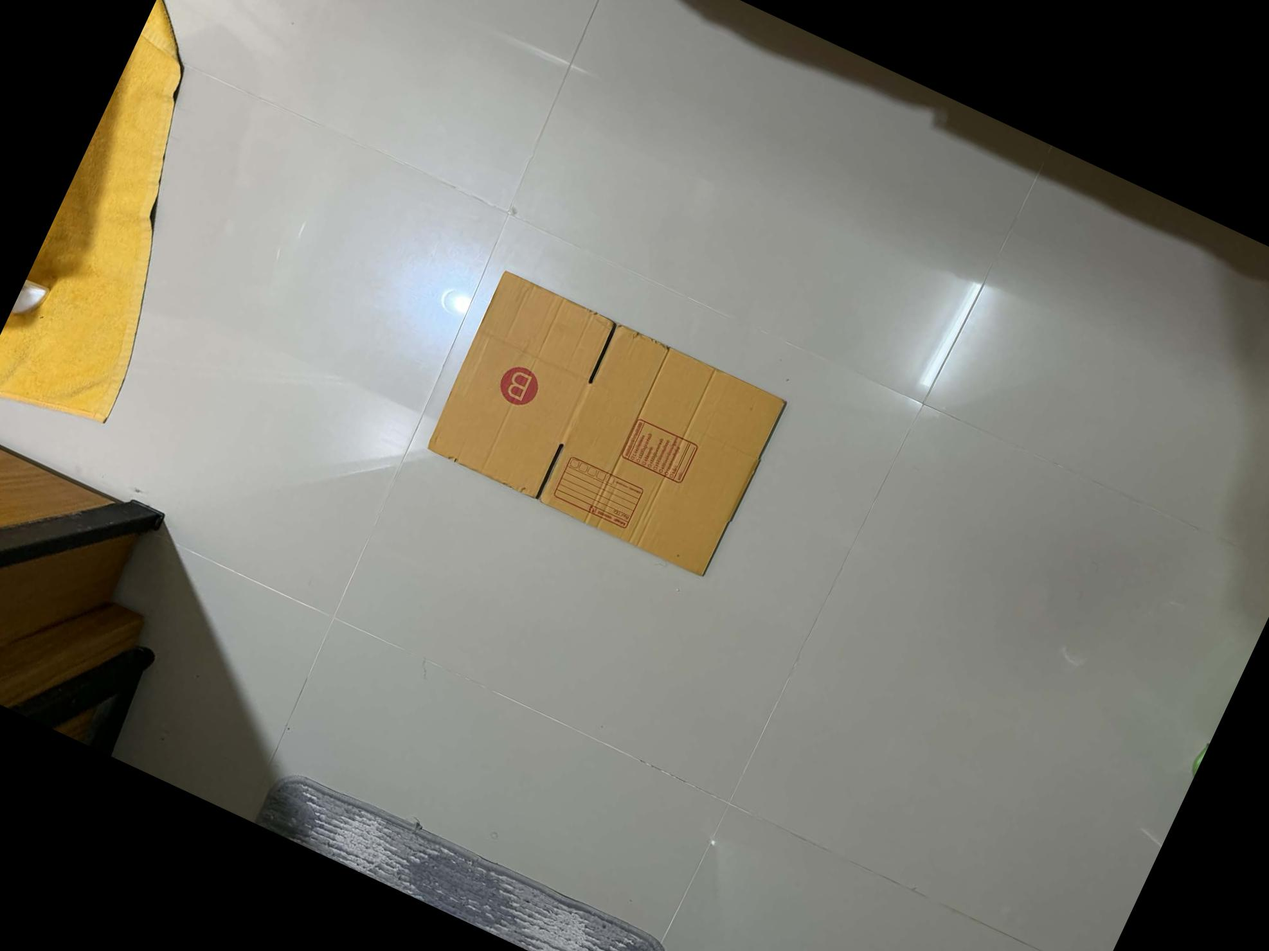box: (551, 454, 648, 533), (617, 418, 698, 488), (494, 359, 544, 409)
class0: (419, 269, 789, 583)
